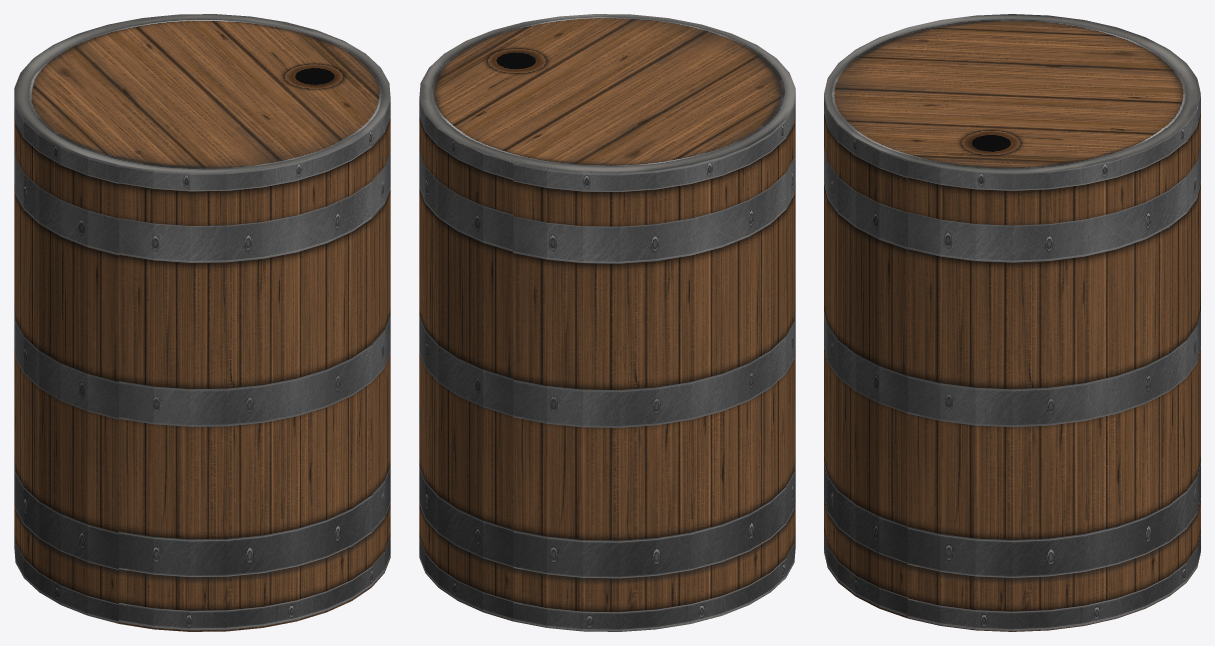
File: barrel.gltf
3 views of the same model, side by side, from view 1: azimuth 30°, elevation 25°; view 2: azimuth 150°, elevation 25°; view 3: azimuth 270°, elevation 25° (orthographic).
Parts seen in each view (by area): view 1: Barrel; view 2: Barrel; view 3: Barrel.
Part boxes in pixels (<box>): Barrel: <box>14,14,390,631</box>; Barrel: <box>419,14,795,631</box>; Barrel: <box>824,14,1200,631</box>.
Size of the model in its own units: 1.63 by 2.19 by 1.63.
Materials: 1 (1 with a texture image).
